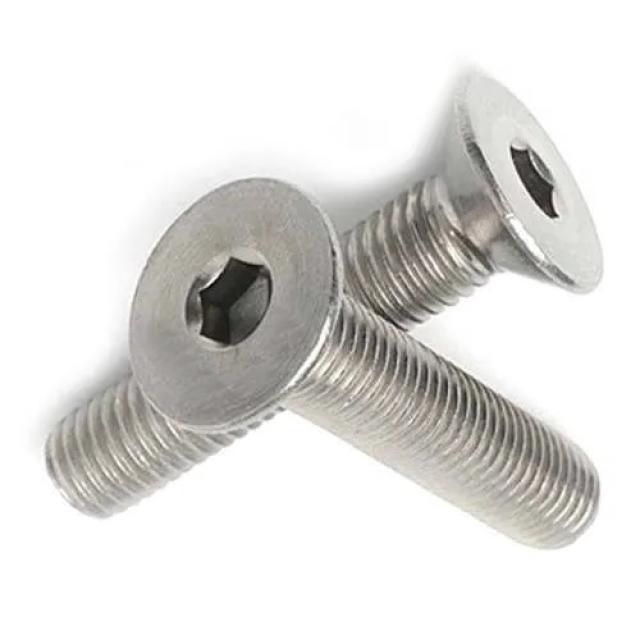allen: (126, 175, 343, 434), (450, 67, 605, 297)
